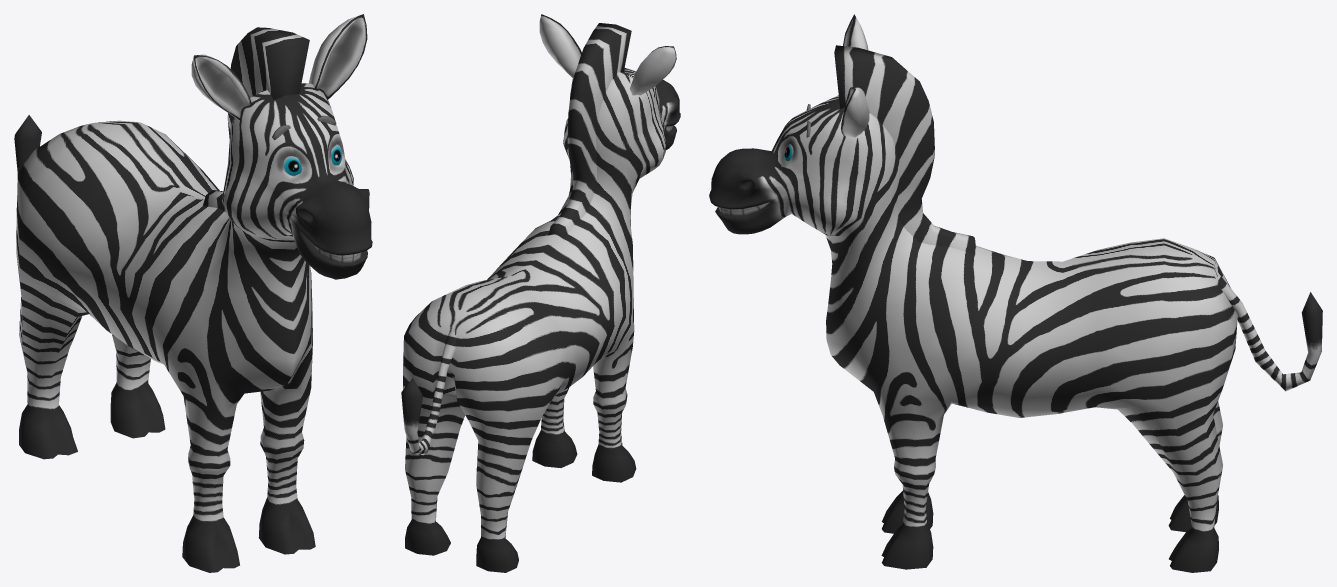
File: Zebra.FBX
3 views of the same model, side by side, from view 1: azimuth 30°, elevation 25°; view 2: azimuth 150°, elevation 25°; view 3: azimuth 270°, elevation 25° (orthographic). The views are drawn at different scales.
Visible parts, largest first — view 1: Zebra; view 2: Zebra; view 3: Zebra.
Boxes of the visible parts, bbox=[...] form: Zebra: bbox=[14, 14, 372, 572]; Zebra: bbox=[401, 14, 680, 572]; Zebra: bbox=[709, 14, 1322, 572].
Size of the model in its own units: 181 by 511 by 580.
